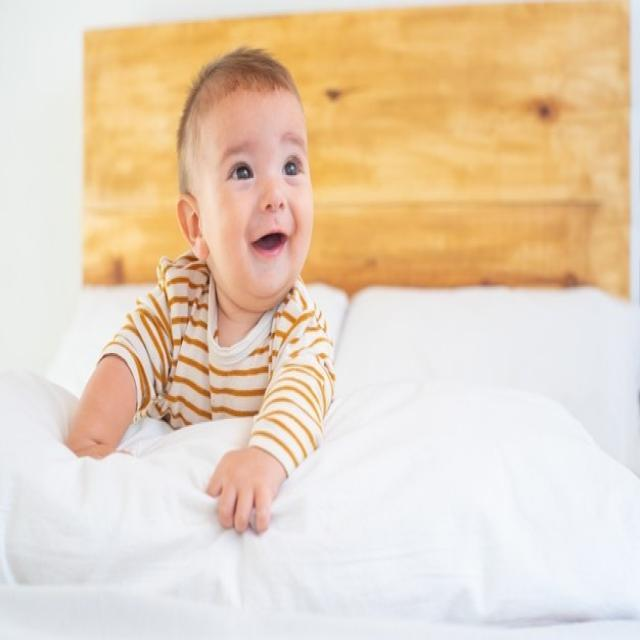non-dog: (68, 47, 340, 534)
